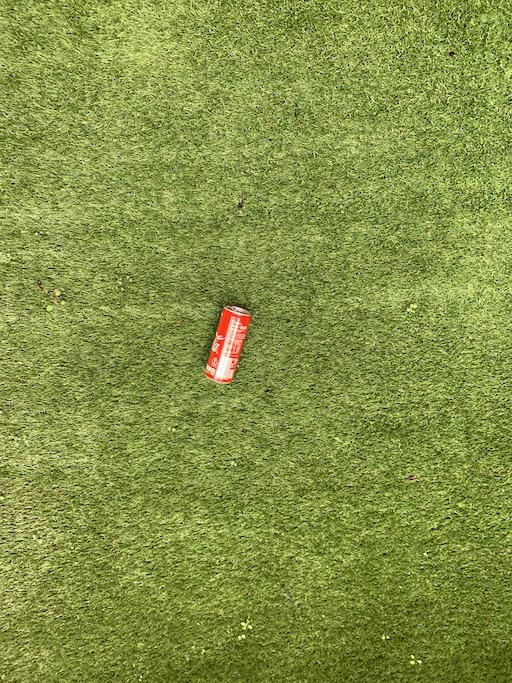Aluminum can: (190, 298, 273, 391)
